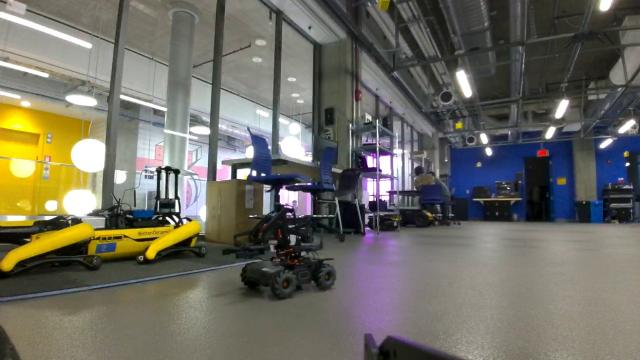robot: (217, 201, 342, 299)
